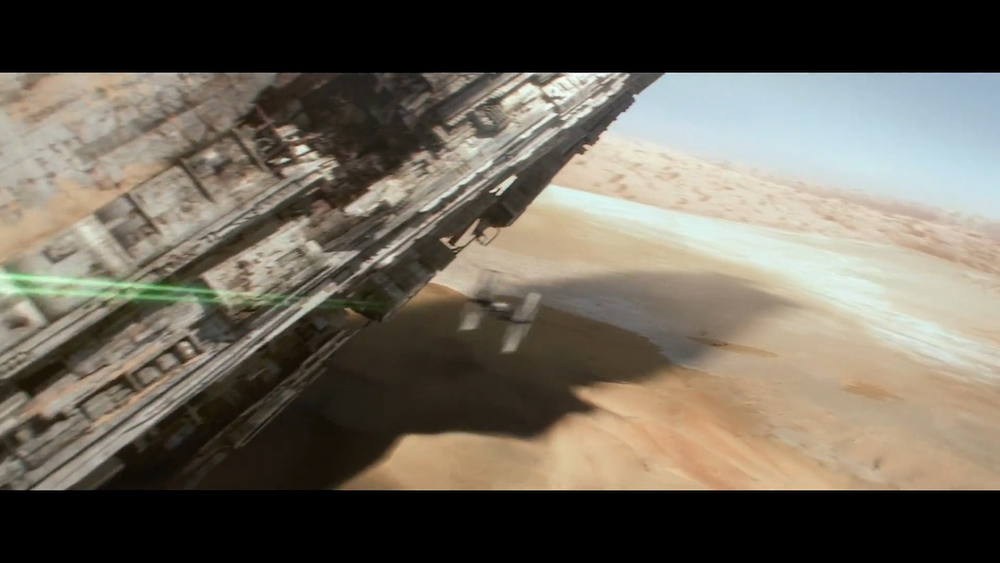Tie Fighter: (457, 267, 546, 357)
